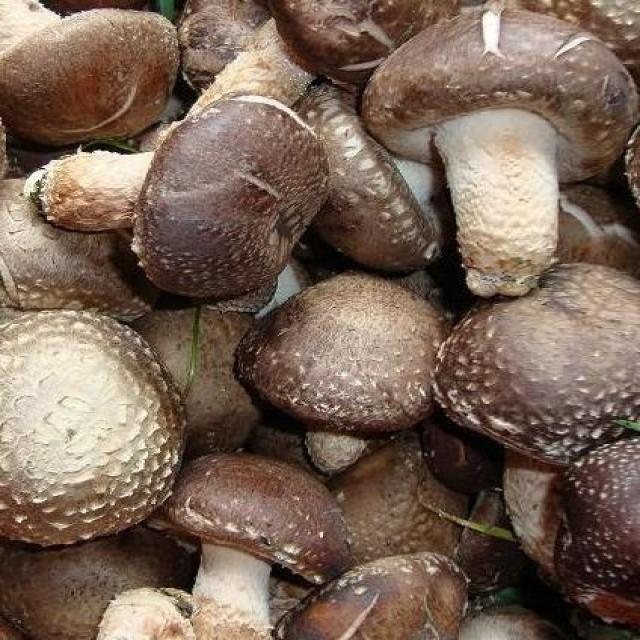Lentinus edodes: (363, 11, 636, 294), (22, 94, 327, 300), (438, 263, 640, 570), (0, 311, 183, 544), (236, 277, 448, 468), (155, 452, 354, 640), (0, 0, 186, 146), (280, 548, 472, 640)
